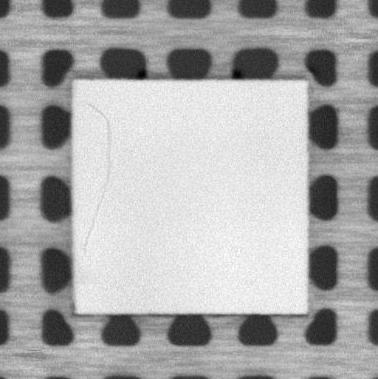DIE_CRACK: (83, 104, 112, 252)
